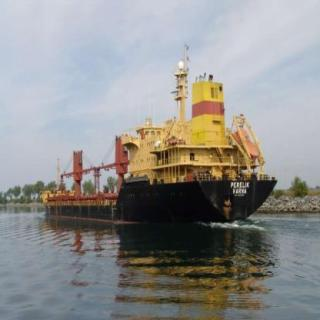Bulk Carrier: (64, 45, 278, 226)
